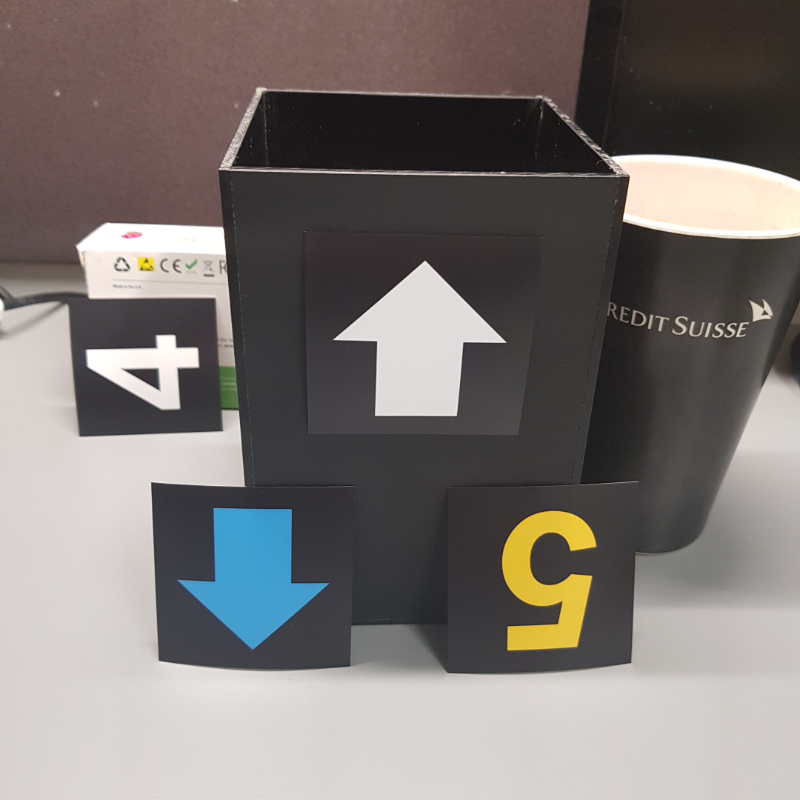Five-10: (458, 497, 629, 660)
Four-9: (82, 305, 214, 425)
LA-4: (160, 494, 347, 660)
UA-1: (317, 242, 517, 427)
